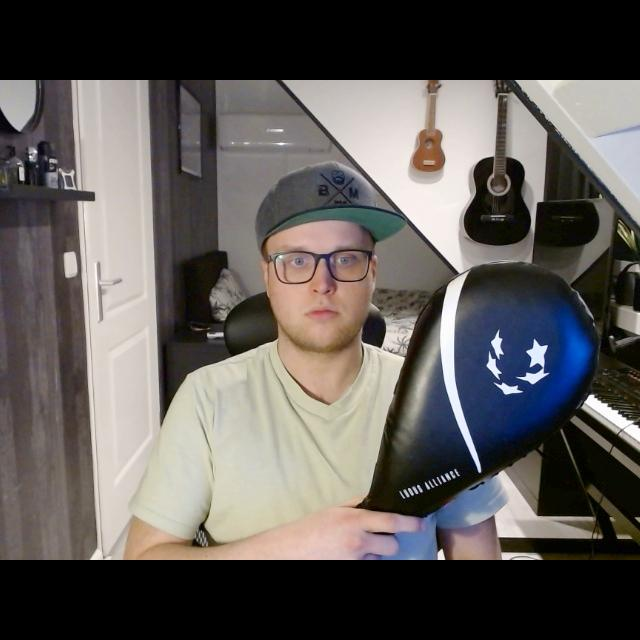paddle: (358, 258, 600, 521)
